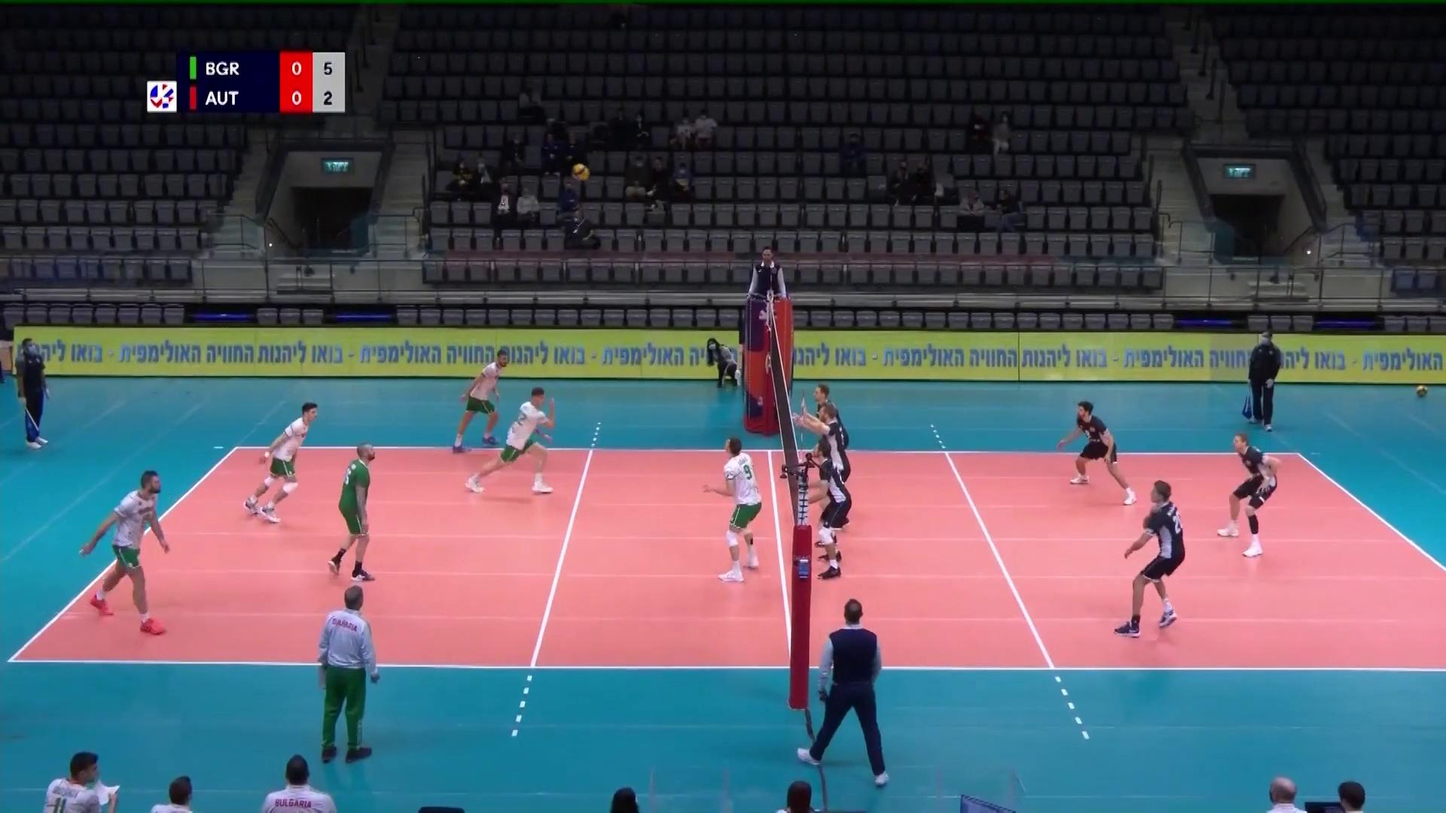ball: (571, 163, 590, 181)
